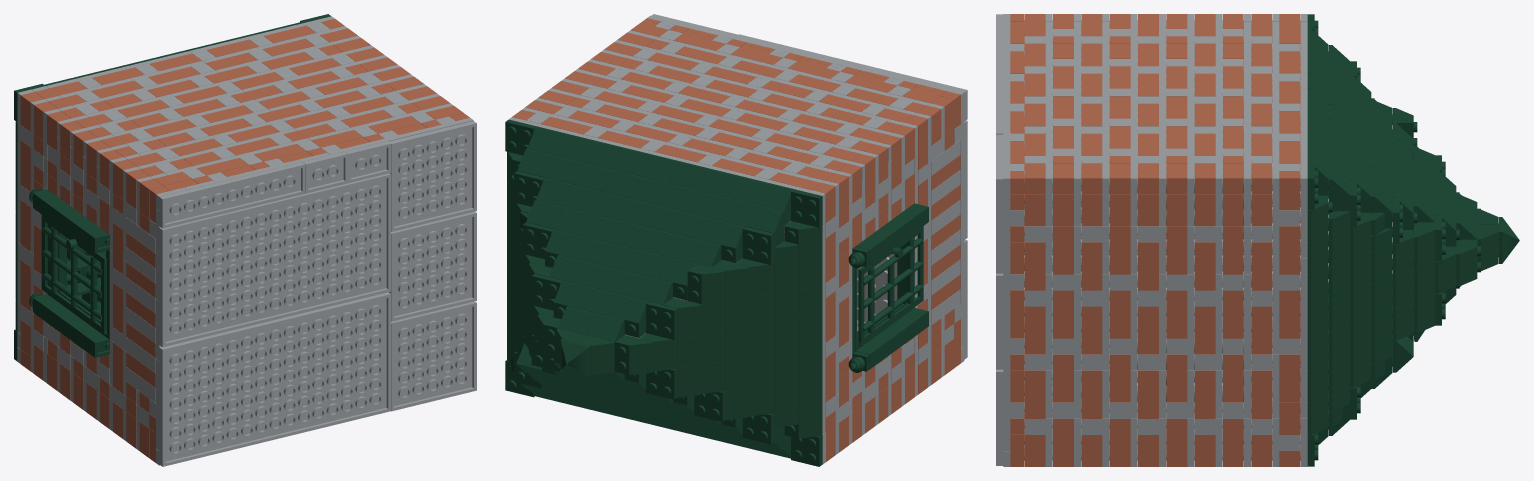
Rendered from casa entrada 1.dae.
The picture shows the model from 3 angles, left to right: view 1: azimuth 30°, elevation 25°; view 2: azimuth 150°, elevation 25°; view 3: azimuth 270°, elevation 25°; orthographic projection. The views are drawn at different scales.
Parts seen in each view (by area): view 1: Inner-Node-pared_dot_io-670, Inner-Node-pared_dot_io-671, Inner-Node-pared_dot_io-674, Inner-Node-pared_dot_io-673, Inner-Node-pared_dot_io-672, Inner-Node-pared_dot_io-675, Inner-Node-pared_dot_io-515, Inner-Node-pared_dot_io-516, Inner-Node-pared_dot_io-676, Inner-Node-pared_dot_io-677, Inner-Node-pared_dot_io-632, Inner-Node-pared_dot_io-306 (+31 smaller); view 2: Inner-Node-pared_dot_io-515, Inner-Node-pared_dot_io-516, Inner-Node-pared_dot_io-670, Inner-Node-pared_dot_io-763, Inner-Node-pared_dot_io-818, Inner-Node-pared_dot_io-835, Inner-Node-pared_dot_io-803, Inner-Node-pared_dot_io-810, Inner-Node-pared_dot_io-833, Inner-Node-pared_dot_io-854, Inner-Node-pared_dot_io-834, Inner-Node-pared_dot_io-758 (+116 smaller); view 3: Inner-Node-pared_dot_io-580, Inner-Node-pared_dot_io-603, Inner-Node-pared_dot_io-103, Inner-Node-pared_dot_io-674, Inner-Node-pared_dot_io-255, Inner-Node-pared_dot_io-257, Inner-Node-pared_dot_io-258, Inner-Node-pared_dot_io-271, Inner-Node-pared_dot_io-272, Inner-Node-pared_dot_io-585, Inner-Node-pared_dot_io-586, Inner-Node-pared_dot_io-587 (+112 smaller).
Boxes of the visible parts, x1,y1,x2,y2 form: Inner-Node-pared_dot_io-670: (159,292,390,466); Inner-Node-pared_dot_io-671: (159,173,390,347); Inner-Node-pared_dot_io-674: (389,121,476,231); Inner-Node-pared_dot_io-673: (389,211,476,321); Inner-Node-pared_dot_io-672: (391,301,476,411); Inner-Node-pared_dot_io-675: (159,162,305,228); Inner-Node-pared_dot_io-515: (36,192,109,357); Inner-Node-pared_dot_io-516: (41,214,106,334); Inner-Node-pared_dot_io-676: (302,151,348,193); Inner-Node-pared_dot_io-677: (345,141,390,183); Inner-Node-pared_dot_io-632: (17,89,34,243); Inner-Node-pared_dot_io-306: (327,118,473,154); Inner-Node-pared_dot_io-515: (855,203,928,368); Inner-Node-pared_dot_io-516: (858,226,923,346); Inner-Node-pared_dot_io-670: (736,221,967,359); Inner-Node-pared_dot_io-763: (687,264,725,304); Inner-Node-pared_dot_io-818: (615,335,653,375); Inner-Node-pared_dot_io-835: (784,221,822,259); Inner-Node-pared_dot_io-803: (707,219,745,263); Inner-Node-pared_dot_io-810: (610,294,648,337); Inner-Node-pared_dot_io-833: (742,227,774,265); Inner-Node-pared_dot_io-854: (646,301,677,339); Inner-Node-pared_dot_io-834: (791,189,822,227); Inner-Node-pared_dot_io-758: (663,297,701,337); Inner-Node-pared_dot_io-580: (1272,194,1279,354); Inner-Node-pared_dot_io-603: (1300,258,1307,418); Inner-Node-pared_dot_io-103: (1003,290,1010,450); Inner-Node-pared_dot_io-674: (996,134,1003,273); Inner-Node-pared_dot_io-255: (1194,242,1215,290); Inner-Node-pared_dot_io-257: (1081,242,1102,290); Inner-Node-pared_dot_io-258: (1024,242,1045,290); Inner-Node-pared_dot_io-271: (1166,226,1187,274); Inner-Node-pared_dot_io-272: (1109,226,1130,274); Inner-Node-pared_dot_io-585: (1279,354,1300,402); Inner-Node-pared_dot_io-586: (1279,290,1300,338); Inner-Node-pared_dot_io-587: (1279,226,1300,274).
Bounding box in the file's own units: 460 × 380 × 592.
